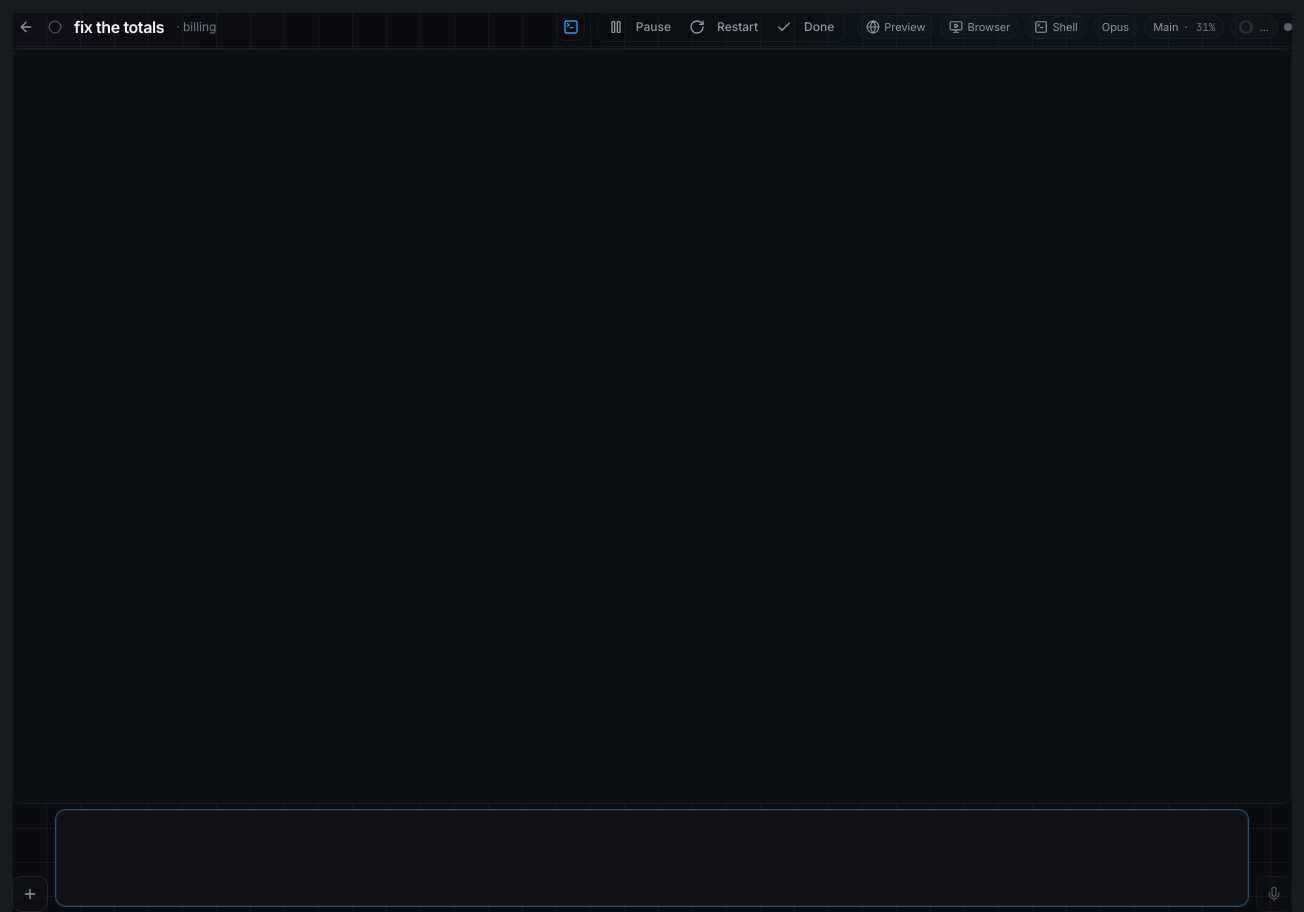
Test case: CardTerminalView — the card bar › the account menu is one EXPLICIT row per account, the built-in profile first
Click the button with aria-label "Claude account" at (1184, 27), box [1144, 15, 1224, 39]
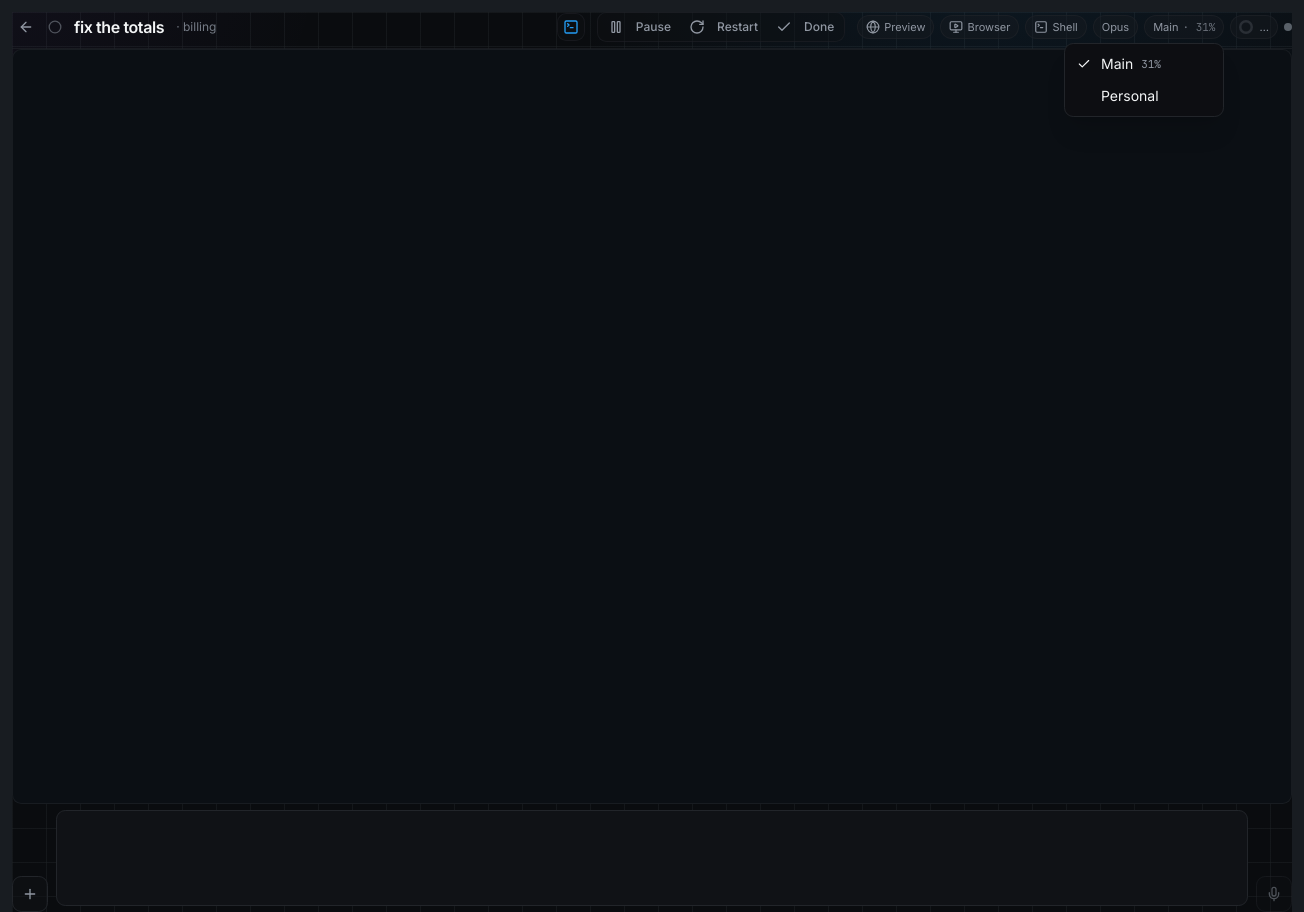
Check: the number of menu items is 2, box [1077, 55, 1161, 72]; [1101, 87, 1159, 104]
Check: the menu item "Main 31%" is shown, box [1077, 55, 1161, 72]
Check: the menu item "Personal" is shown, box [1101, 87, 1159, 104]
